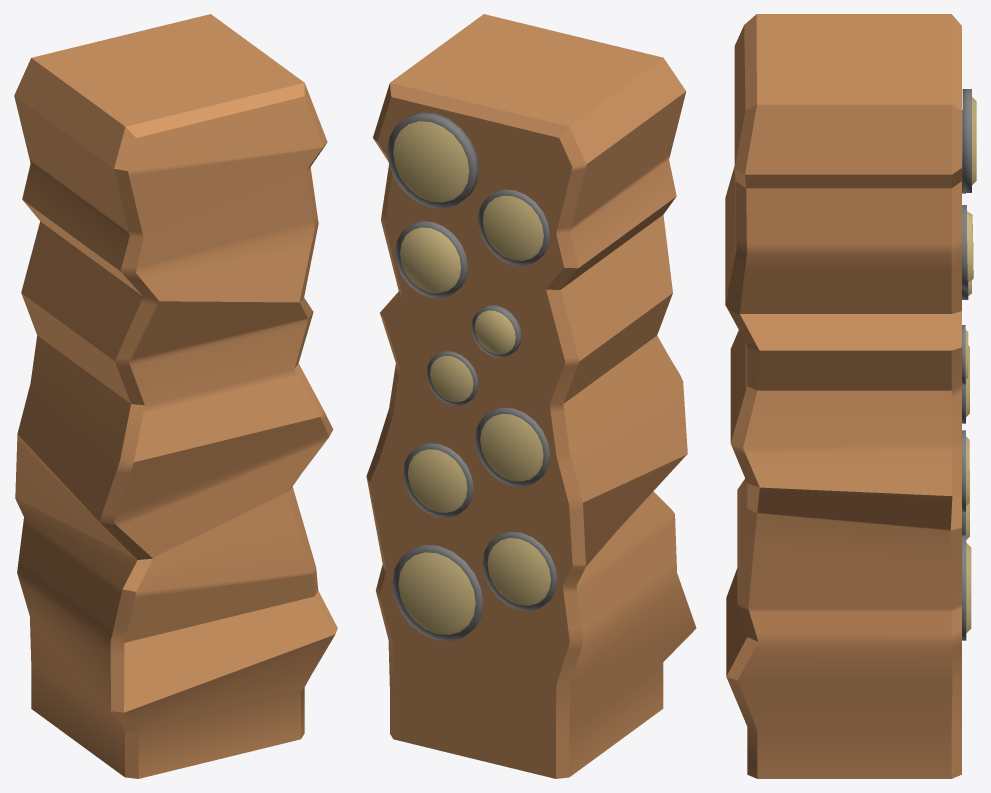
File: Building_1.fbx
3 renders of one model, left to right at view 1: azimuth 30°, elevation 25°; view 2: azimuth 150°, elevation 25°; view 3: azimuth 270°, elevation 25°, orthographic. The views are drawn at different scales.
Parts seen in each view (by area): view 1: pCylinder10; view 2: pCylinder10; view 3: pCylinder10.
Part boxes in pixels (left/top/right/bottom): pCylinder10: left=14, top=14, right=337, bottom=778; pCylinder10: left=366, top=14, right=696, bottom=778; pCylinder10: left=725, top=14, right=976, bottom=778.
Bounding box in the file's own units: 595 × 1577 × 533.
